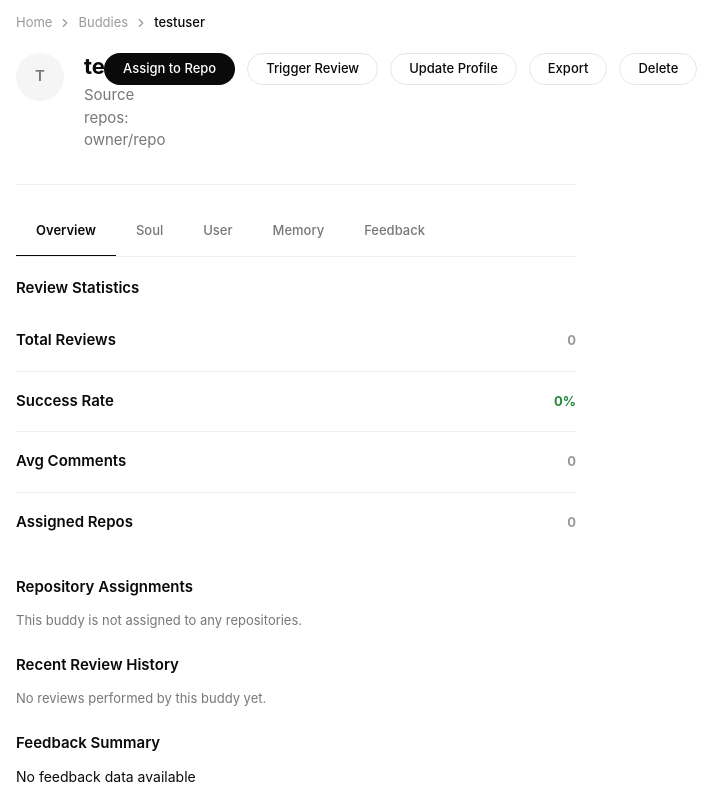
Scenario: BuddyDetailPage › renders Soul tab with ReactMarkdown content
Check: the tab "Overview" is shown, box [16, 204, 116, 257]
What coordinates should you click on to do the following:
click the tab "Soul"
I would click on:
 (150, 231)
Its box is [116, 204, 183, 257].
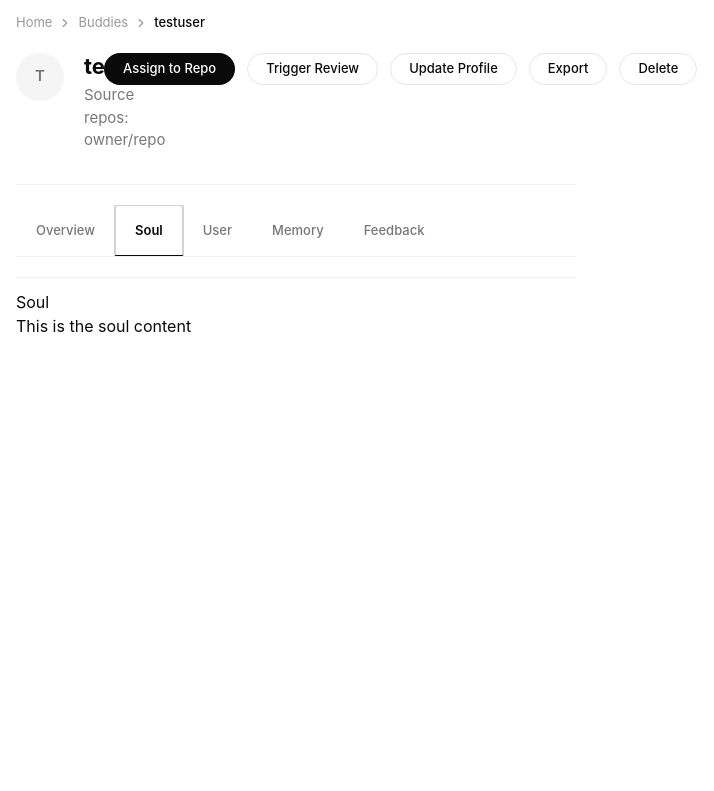
Check: the text "This is the soul content" is shown, box [16, 316, 191, 336]
